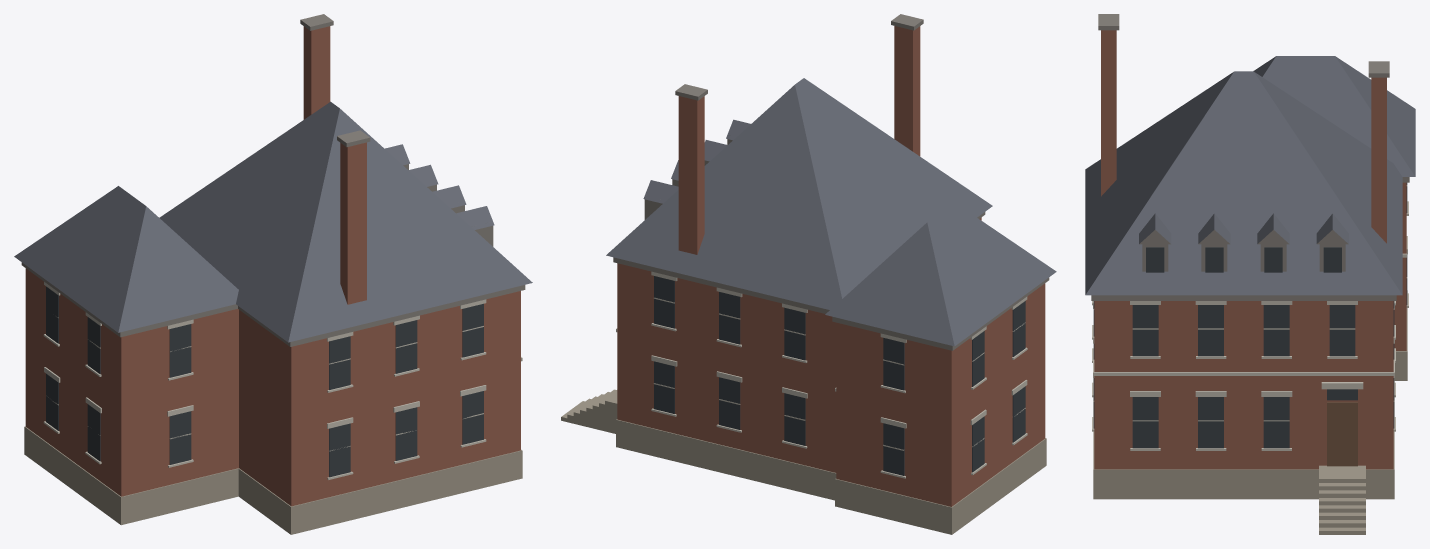
The model's file is spalding_house_1637_prairie__draft_1904.glb.
3 renders of one model, left to right at view 1: azimuth 30°, elevation 25°; view 2: azimuth 150°, elevation 25°; view 3: azimuth 270°, elevation 25°, orthographic. The views are drawn at different scales.
Visible parts, largest first — view 1: spalding_house_1637_prairie__draft_1904; view 2: spalding_house_1637_prairie__draft_1904; view 3: spalding_house_1637_prairie__draft_1904.
Part boxes in pixels (x1,y1,x2,y2): spalding_house_1637_prairie__draft_1904: [14, 14, 532, 534]; spalding_house_1637_prairie__draft_1904: [561, 14, 1056, 534]; spalding_house_1637_prairie__draft_1904: [1085, 14, 1415, 534].
Bounding box in the file's own units: 19.9 × 16.8 × 12.7.
